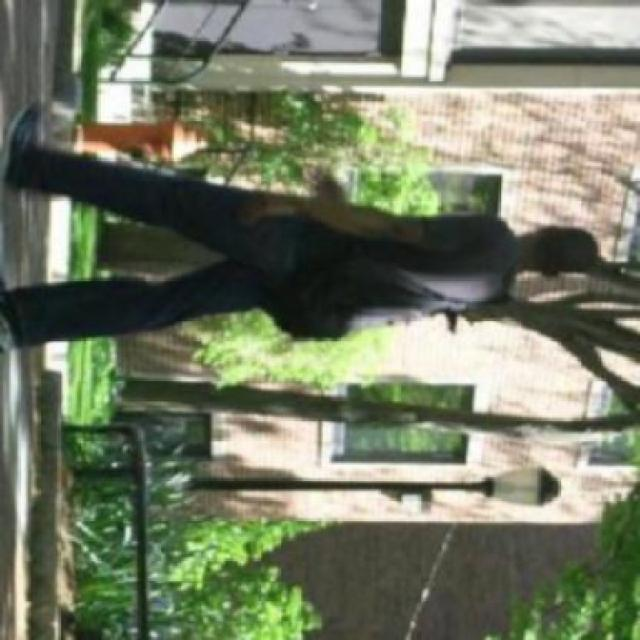obstacle: (0, 92, 603, 356)
